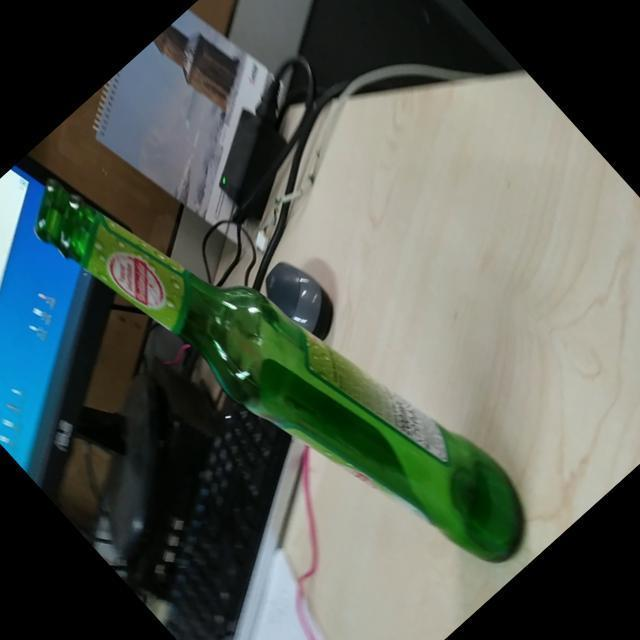Glass: (34, 180, 525, 563)
